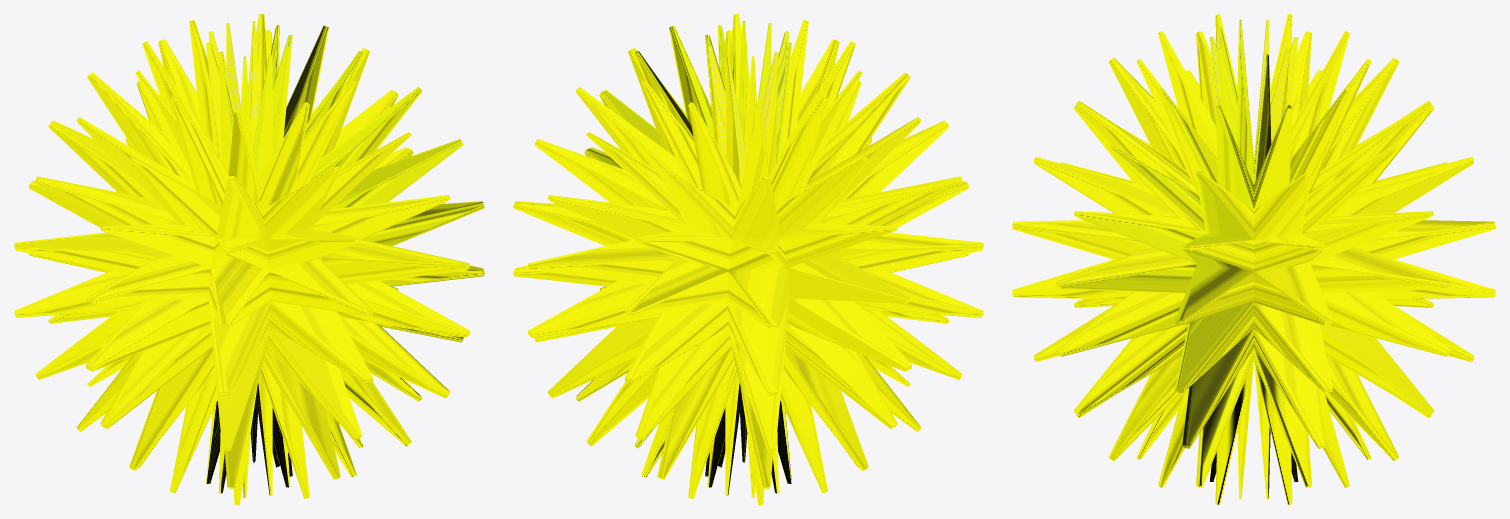
File: Boss3.dae
3 views of the same model, side by side, from view 1: azimuth 30°, elevation 25°; view 2: azimuth 150°, elevation 25°; view 3: azimuth 270°, elevation 25° (orthographic).
Visible parts, largest first — view 1: pSphere1; view 2: pSphere1; view 3: pSphere1.
Part boxes in pixels (x1=…): pSphere1: x1=14, y1=14, x2=484, y2=504; pSphere1: x1=513, y1=14, x2=983, y2=504; pSphere1: x1=1012, y1=14, x2=1495, y2=504.
Bounding box in the file's own units: 15.78 × 16.76 × 16.49.
